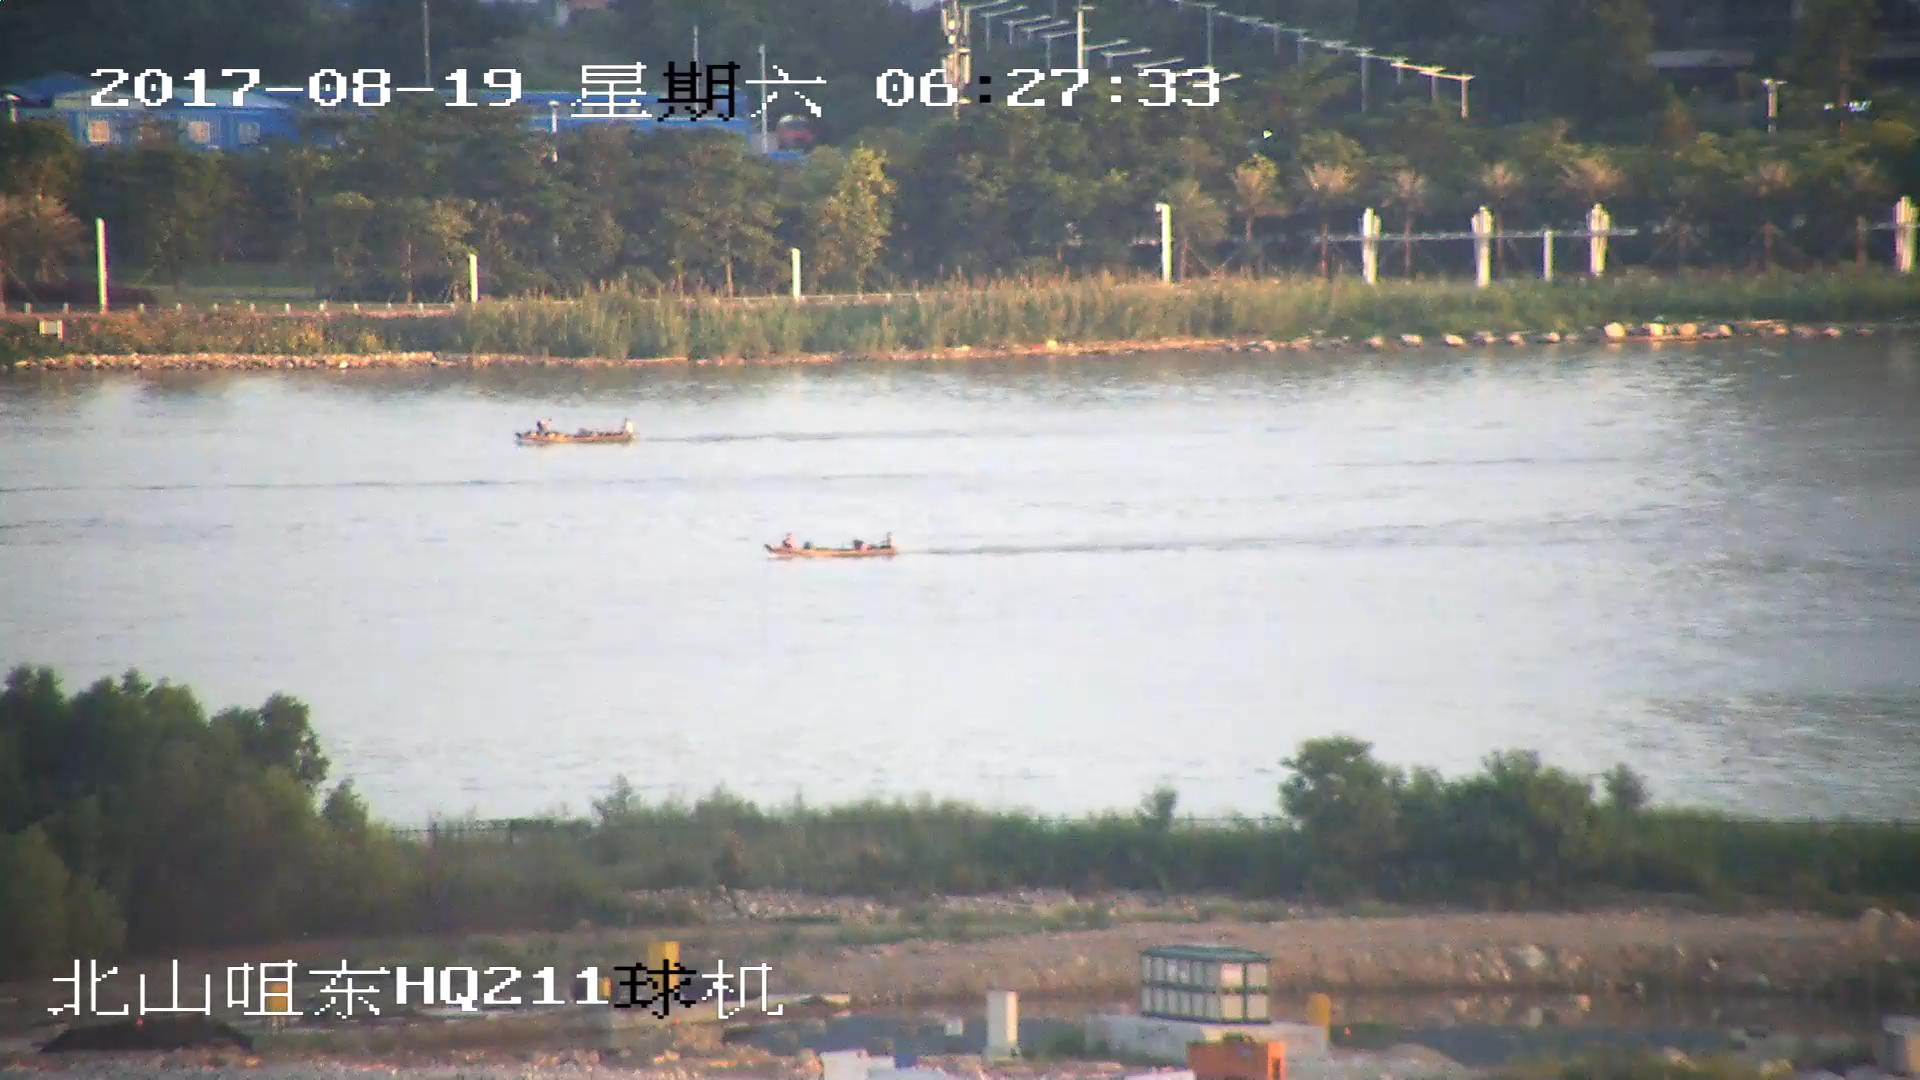fishing boat: (766, 534, 898, 559), (515, 418, 629, 445)
